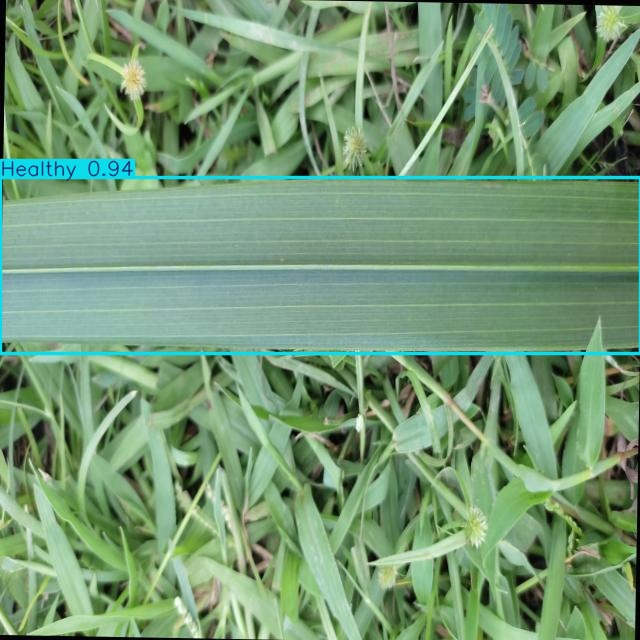Healthy: (1, 178, 640, 353)
